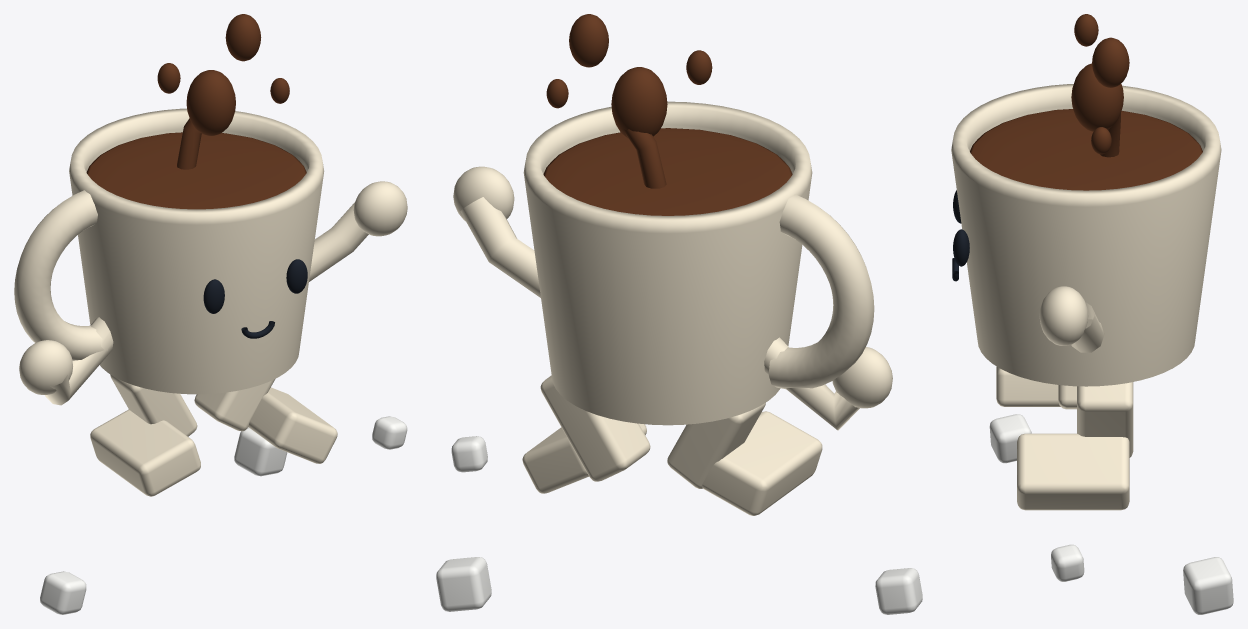
Rendered from coffee.glb.
3 views of the same model, side by side, from view 1: azimuth 30°, elevation 25°; view 2: azimuth 150°, elevation 25°; view 3: azimuth 270°, elevation 25° (orthographic). The views are drawn at different scales.
Visible parts, largest first — view 1: PG cup, PG espresso surface, PG handle, PG left shoe, PG right shoe, PG escaping coffee, PG mitten.001, PG left leg, PG mitten, PG right leg, PG right arm, PG sugar.001 (+8 smaller); view 2: PG cup, PG espresso surface, PG handle, PG left shoe, PG right leg, PG left leg, PG right arm, PG escaping coffee, PG right shoe, PG sugar.001, PG mitten, PG mitten.001 (+6 smaller); view 3: PG cup, PG espresso surface, PG right shoe, PG right leg, PG sugar.001, PG escaping coffee, PG mitten.001, PG left shoe, PG escaping coffee.001, PG sugar, PG sugar.002, PG right arm (+5 smaller).
Part boxes in pixels (left/top/right/bottom): PG cup: left=69, top=108, right=324, bottom=394; PG espresso surface: left=86, top=132, right=306, bottom=209; PG handle: left=14, top=190, right=107, bottom=360; PG left shoe: left=90, top=409, right=200, bottom=496; PG right shoe: left=248, top=387, right=337, bottom=463; PG escaping coffee: left=186, top=70, right=235, bottom=135; PG mitten.001: left=353, top=181, right=407, bottom=236; PG left leg: left=110, top=374, right=197, bottom=436; PG mitten: left=19, top=340, right=72, bottom=394; PG right leg: left=194, top=379, right=275, bottom=431; PG right arm: left=309, top=202, right=368, bottom=281; PG sugar.001: left=234, top=427, right=287, bottom=476; PG cup: left=523, top=101, right=812, bottom=425; PG espresso surface: left=543, top=128, right=792, bottom=215; PG handle: left=768, top=194, right=874, bottom=389; PG left shoe: left=702, top=411, right=822, bottom=515; PG right leg: left=540, top=375, right=650, bottom=481; PG left leg: left=667, top=402, right=765, bottom=488; PG right arm: left=460, top=197, right=540, bottom=297; PG escaping coffee: left=611, top=67, right=667, bottom=138; PG right shoe: left=522, top=423, right=646, bottom=493; PG sugar.001: left=436, top=557, right=491, bottom=611; PG mitten: left=832, top=347, right=892, bottom=408; PG mitten.001: left=453, top=166, right=514, bottom=221; PG cup: left=951, top=84, right=1221, bottom=386; PG espresso surface: left=970, top=109, right=1202, bottom=190; PG right shoe: left=1017, top=433, right=1129, bottom=510; PG right leg: left=1077, top=382, right=1133, bottom=457; PG sugar.001: left=1183, top=557, right=1233, bottom=614; PG escaping coffee: left=1071, top=63, right=1123, bottom=131; PG mitten.001: left=1039, top=286, right=1088, bottom=345; PG left shoe: left=996, top=366, right=1060, bottom=406; PG escaping coffee.001: left=1092, top=37, right=1129, bottom=87; PG sugar: left=989, top=414, right=1031, bottom=463; PG sugar.002: left=1051, top=544, right=1084, bottom=581; PG right arm: left=1071, top=302, right=1104, bottom=352.
Size of the model in its own units: 2.51 by 3.15 by 1.5.
